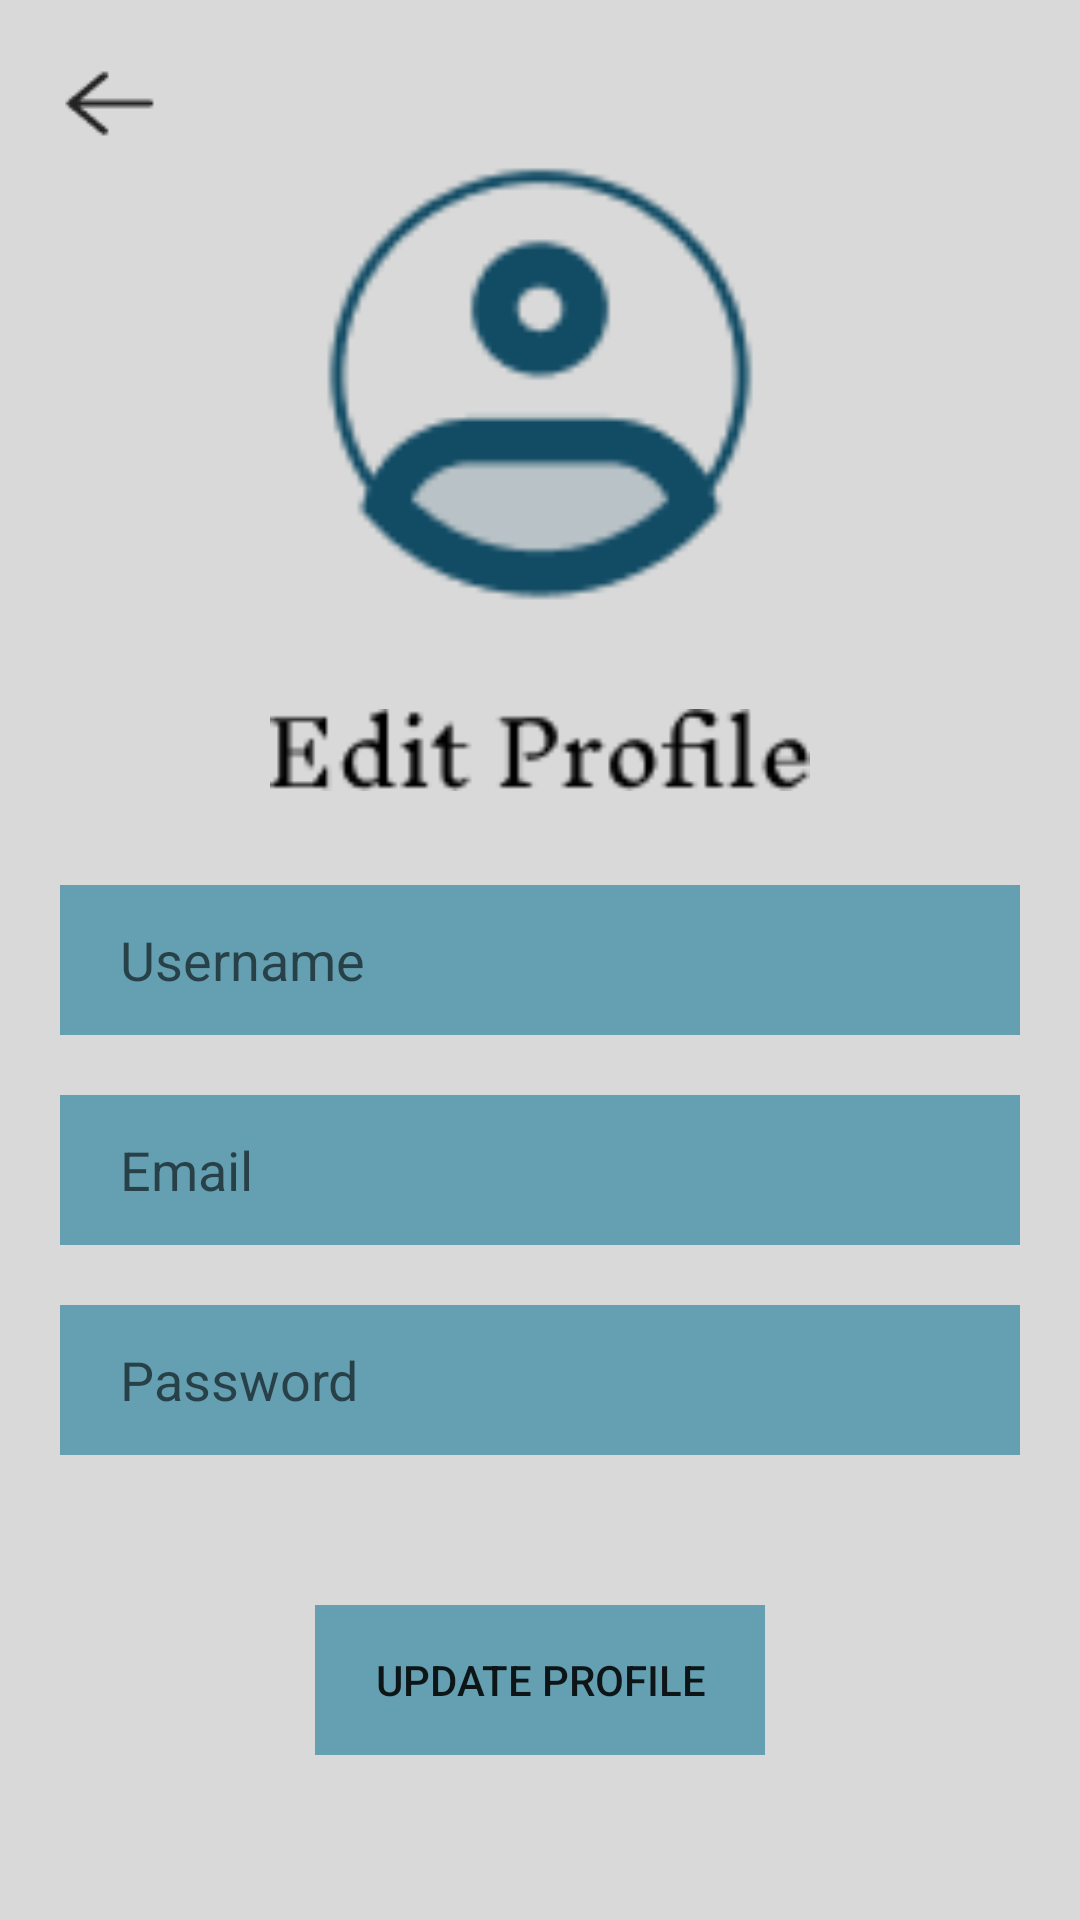

Named icons in this screenshot (1080*1920) and their bounding boxes, (x1, y1, x2, y2):
back: (65, 71, 154, 136)
